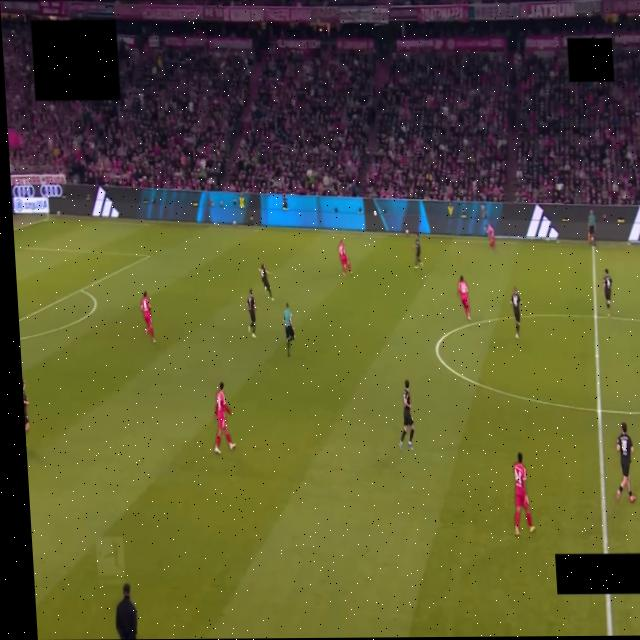ball: (405, 229, 410, 234)
player: (513, 452, 534, 535), (616, 423, 635, 502), (214, 383, 234, 454), (398, 380, 414, 450), (140, 292, 154, 342), (457, 276, 470, 321), (338, 239, 353, 276), (510, 287, 520, 339), (258, 263, 272, 300), (246, 288, 255, 337), (603, 269, 611, 316), (414, 233, 422, 268), (23, 380, 28, 432), (485, 223, 494, 248)
referee: (283, 303, 294, 357)
